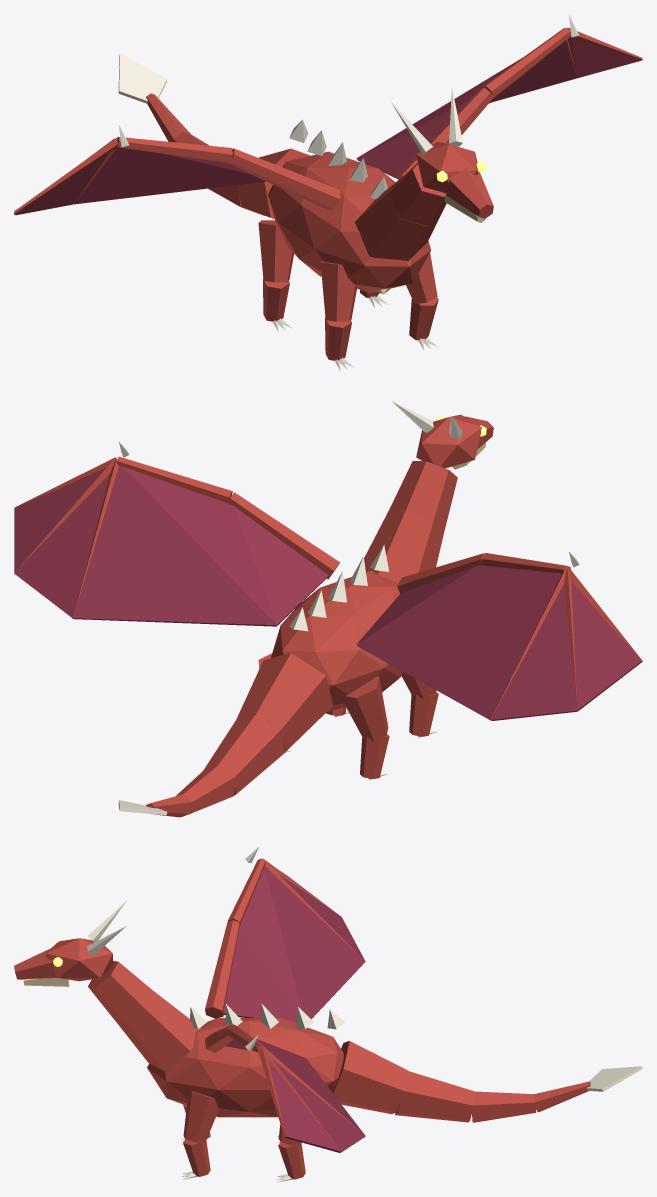
Rendered from dragon_placeholder.glb.
3 renders of one model, top to bottom at view 1: azimuth 30°, elevation 25°; view 2: azimuth 150°, elevation 25°; view 3: azimuth 270°, elevation 25°, orthographic. The views are drawn at different scales.
Visible parts, largest first — view 1: DragonPlaceholder; view 2: DragonPlaceholder; view 3: DragonPlaceholder.
Part boxes in pixels (left/top/right/bottom): DragonPlaceholder: left=14, top=15, right=642, bottom=370; DragonPlaceholder: left=14, top=401, right=642, bottom=817; DragonPlaceholder: left=14, top=847, right=642, bottom=1182.
Bounding box in the file's own units: 7.82 × 3.43 × 7.93.
